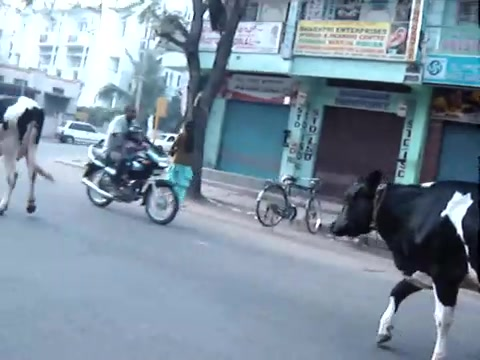cow: (331, 173, 480, 360)
